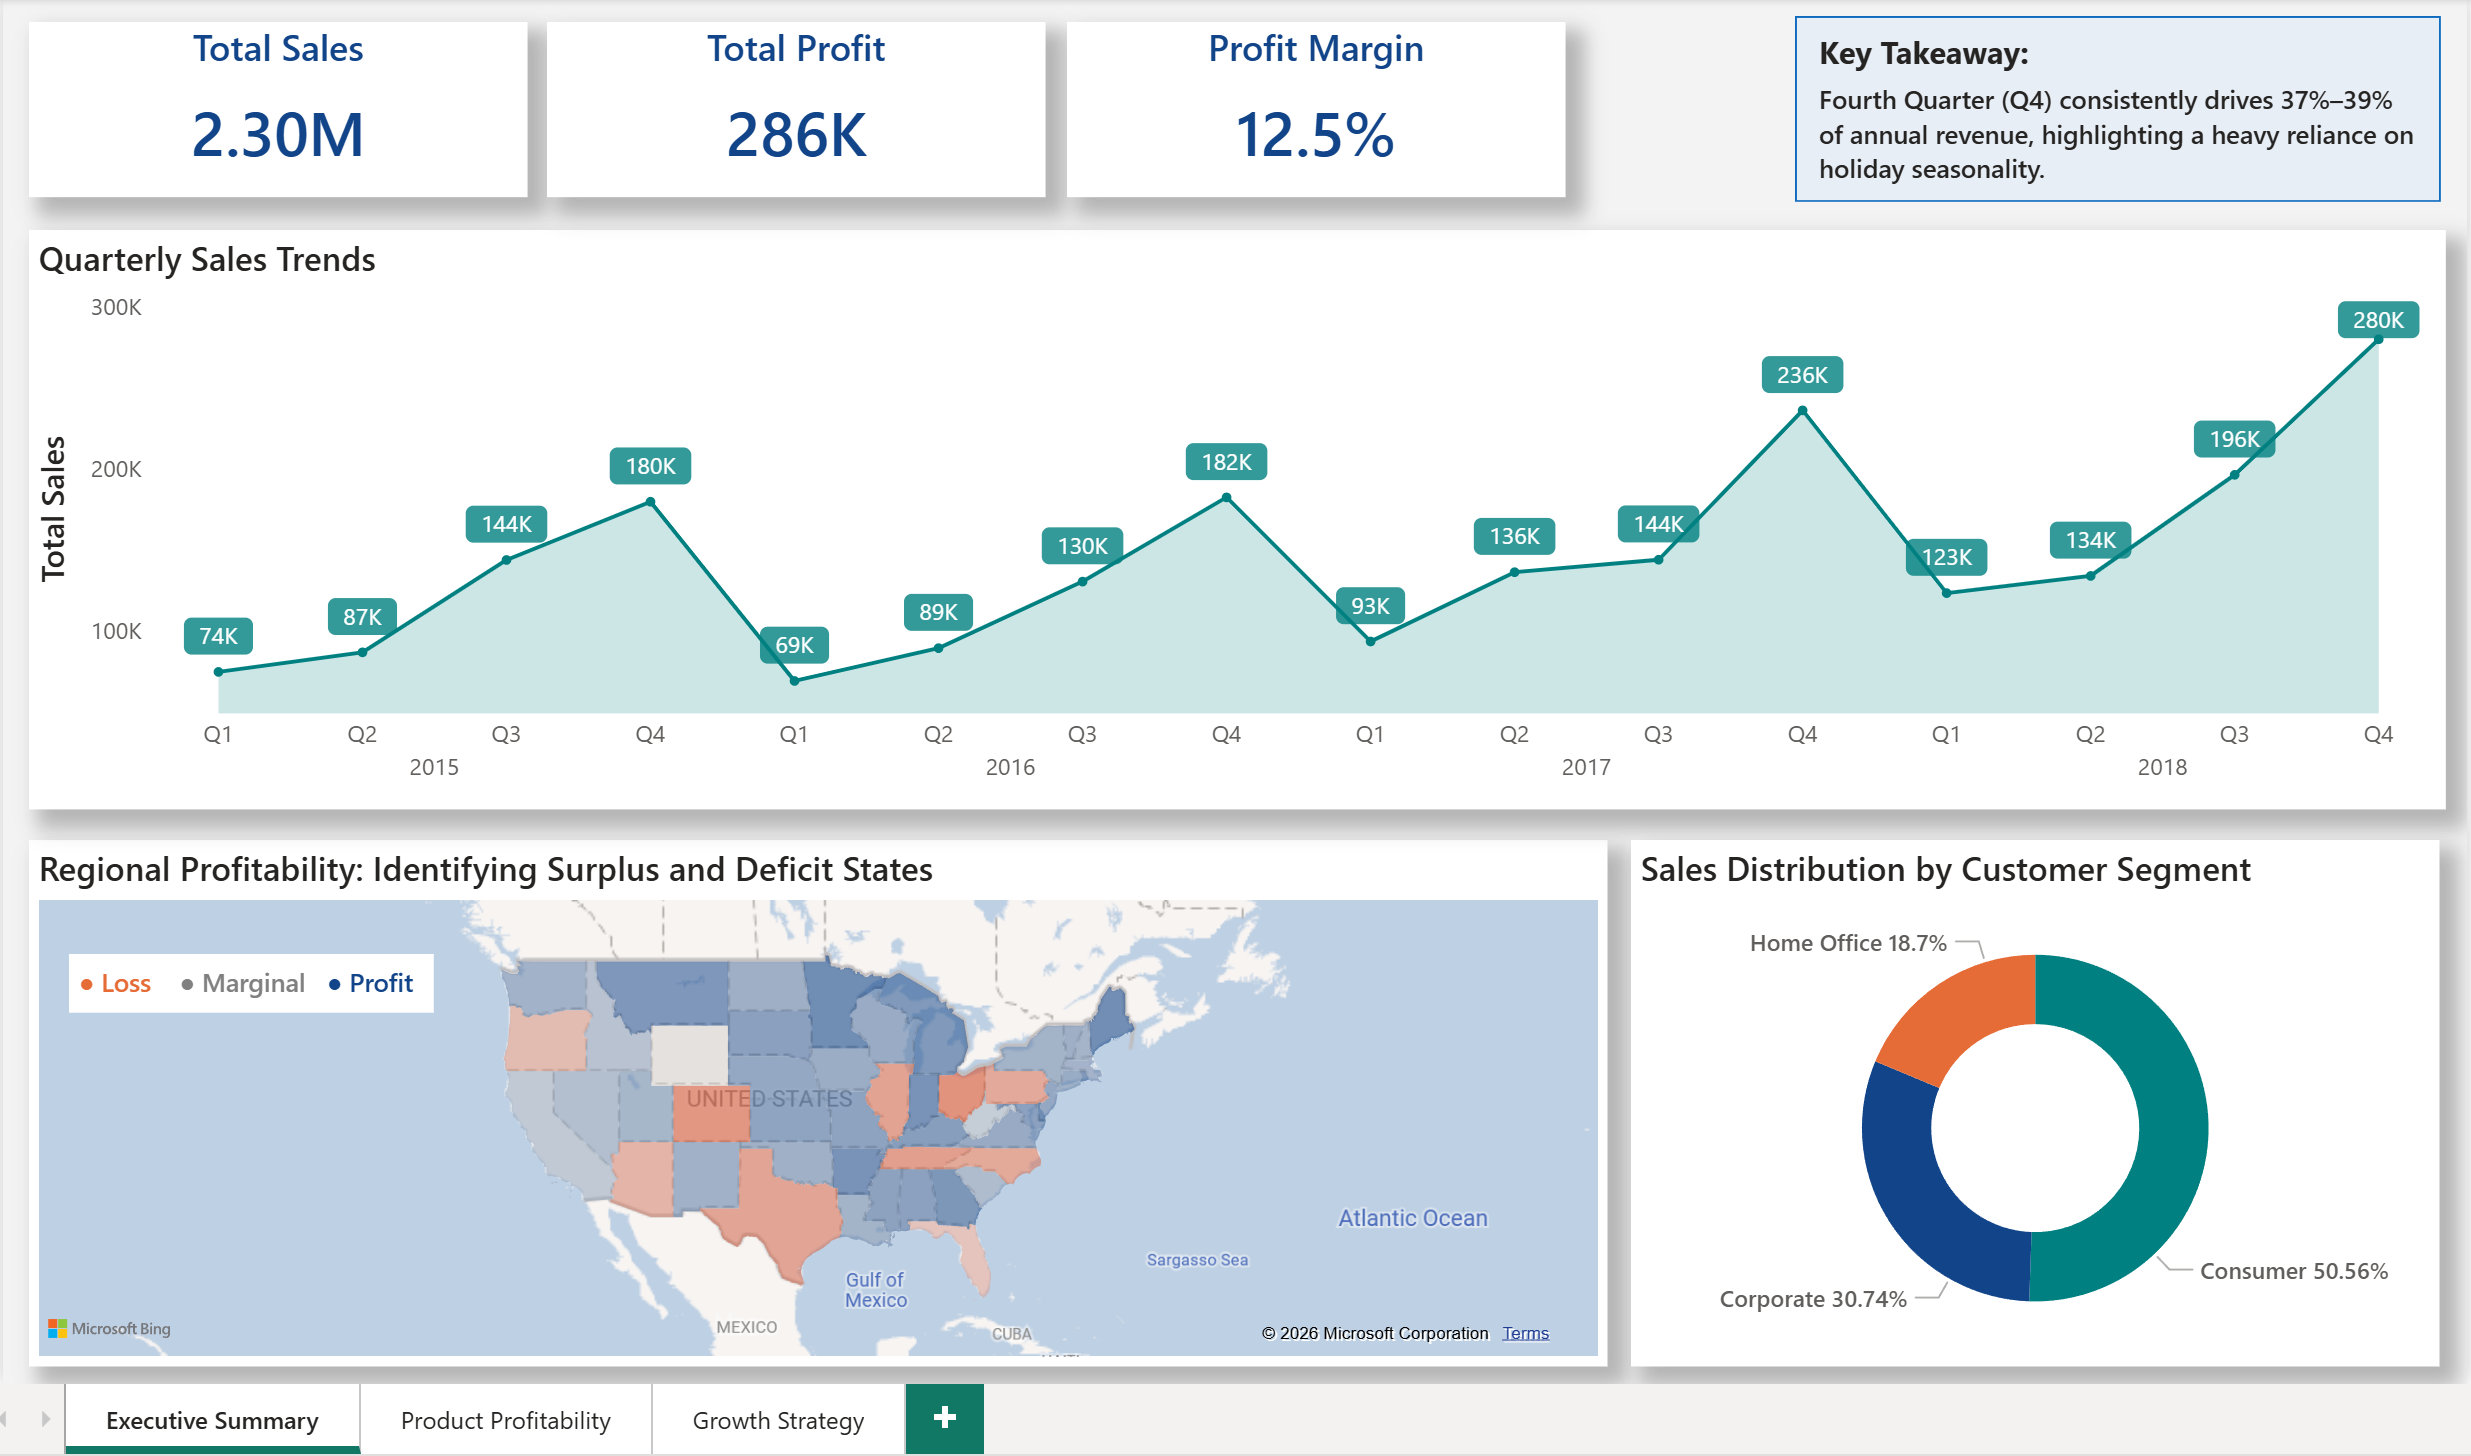

The dashboard page shown, as its layout file describes it:
{"tool":"powerbi","page":{"name":"Executive Summary","canvas":[1280,720],"ordinal":0},"visuals":[{"type":"card","title":"Total Sales","fields":{"Values":["#Measures.Total Sales"]},"box":[13.3,12.2,258.9,91.1],"z":0},{"type":"filledMap","title":"Regional Profitability: Identifying Surplus and Deficit States","fields":{"Category":["Orders.State"]},"box":[13.3,437.8,820,273.3],"z":1000},{"type":"areaChart","title":"Quarterly Sales Trends","fields":{"Category":["Dim_Date.A Date Hierarchy.Year","Dim_Date.A Date Hierarchy.Quarter","Dim_Date.A Date Hierarchy.Month Name","Dim_Date.A Date Hierarchy.Date"],"Y":["#Measures.Total Sales"]},"box":[13.3,120,1255.6,301.1],"z":2000},{"type":"textbox","box":[34.1,496.5,189.4,30.6],"z":3000},{"type":"donutChart","title":"Sales Distribution by Customer Segment","fields":{"Category":["Orders.Segment"],"Y":["#Measures.Total Sales"]},"box":[845.6,437.8,420,273.3],"z":4000},{"type":"shape","box":[931.1,8.9,335.6,96.7],"z":5000},{"type":"shape","title":"Key Takeaway:","box":[943.3,16.7,313.3,81.1],"z":6000},{"type":"card","title":"Total Profit","fields":{"Values":["#Measures.Total Profit"]},"box":[282.2,12.2,258.9,91.1],"z":7000},{"type":"card","title":"Profit Margin","fields":{"Values":["#Measures.Profit Margin"]},"box":[552.2,12.2,258.9,91.1],"z":8000}]}

Visuals, with their boxes on the page's 1280x720 design canvas (x1, y1, x2, y2). These are canvas units, not pixel positions in the 2471x1456 screenshot, which may show the page scaled, cropped or inside an application window:
"Total Sales" card: pyautogui.locateOnScreen(13, 12, 272, 103)
"Regional Profitability: Identifying Surplus and Deficit States" filledMap: pyautogui.locateOnScreen(13, 438, 833, 711)
"Quarterly Sales Trends" areaChart: pyautogui.locateOnScreen(13, 120, 1269, 421)
textbox: pyautogui.locateOnScreen(34, 496, 224, 527)
"Sales Distribution by Customer Segment" donutChart: pyautogui.locateOnScreen(846, 438, 1266, 711)
shape: pyautogui.locateOnScreen(931, 9, 1267, 106)
"Key Takeaway:" shape: pyautogui.locateOnScreen(943, 17, 1257, 98)
"Total Profit" card: pyautogui.locateOnScreen(282, 12, 541, 103)
"Profit Margin" card: pyautogui.locateOnScreen(552, 12, 811, 103)
